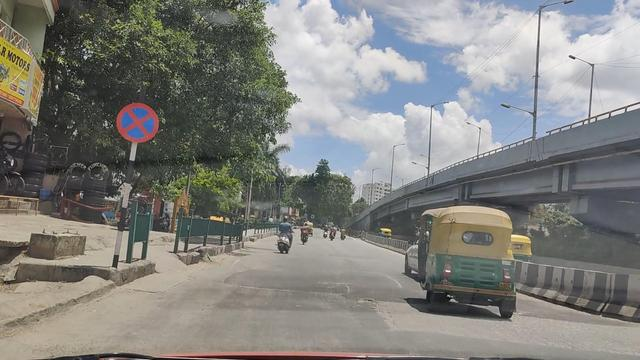LMV: (420, 199, 518, 315)
RoadDamages: (322, 292, 412, 313), (375, 270, 401, 286)
